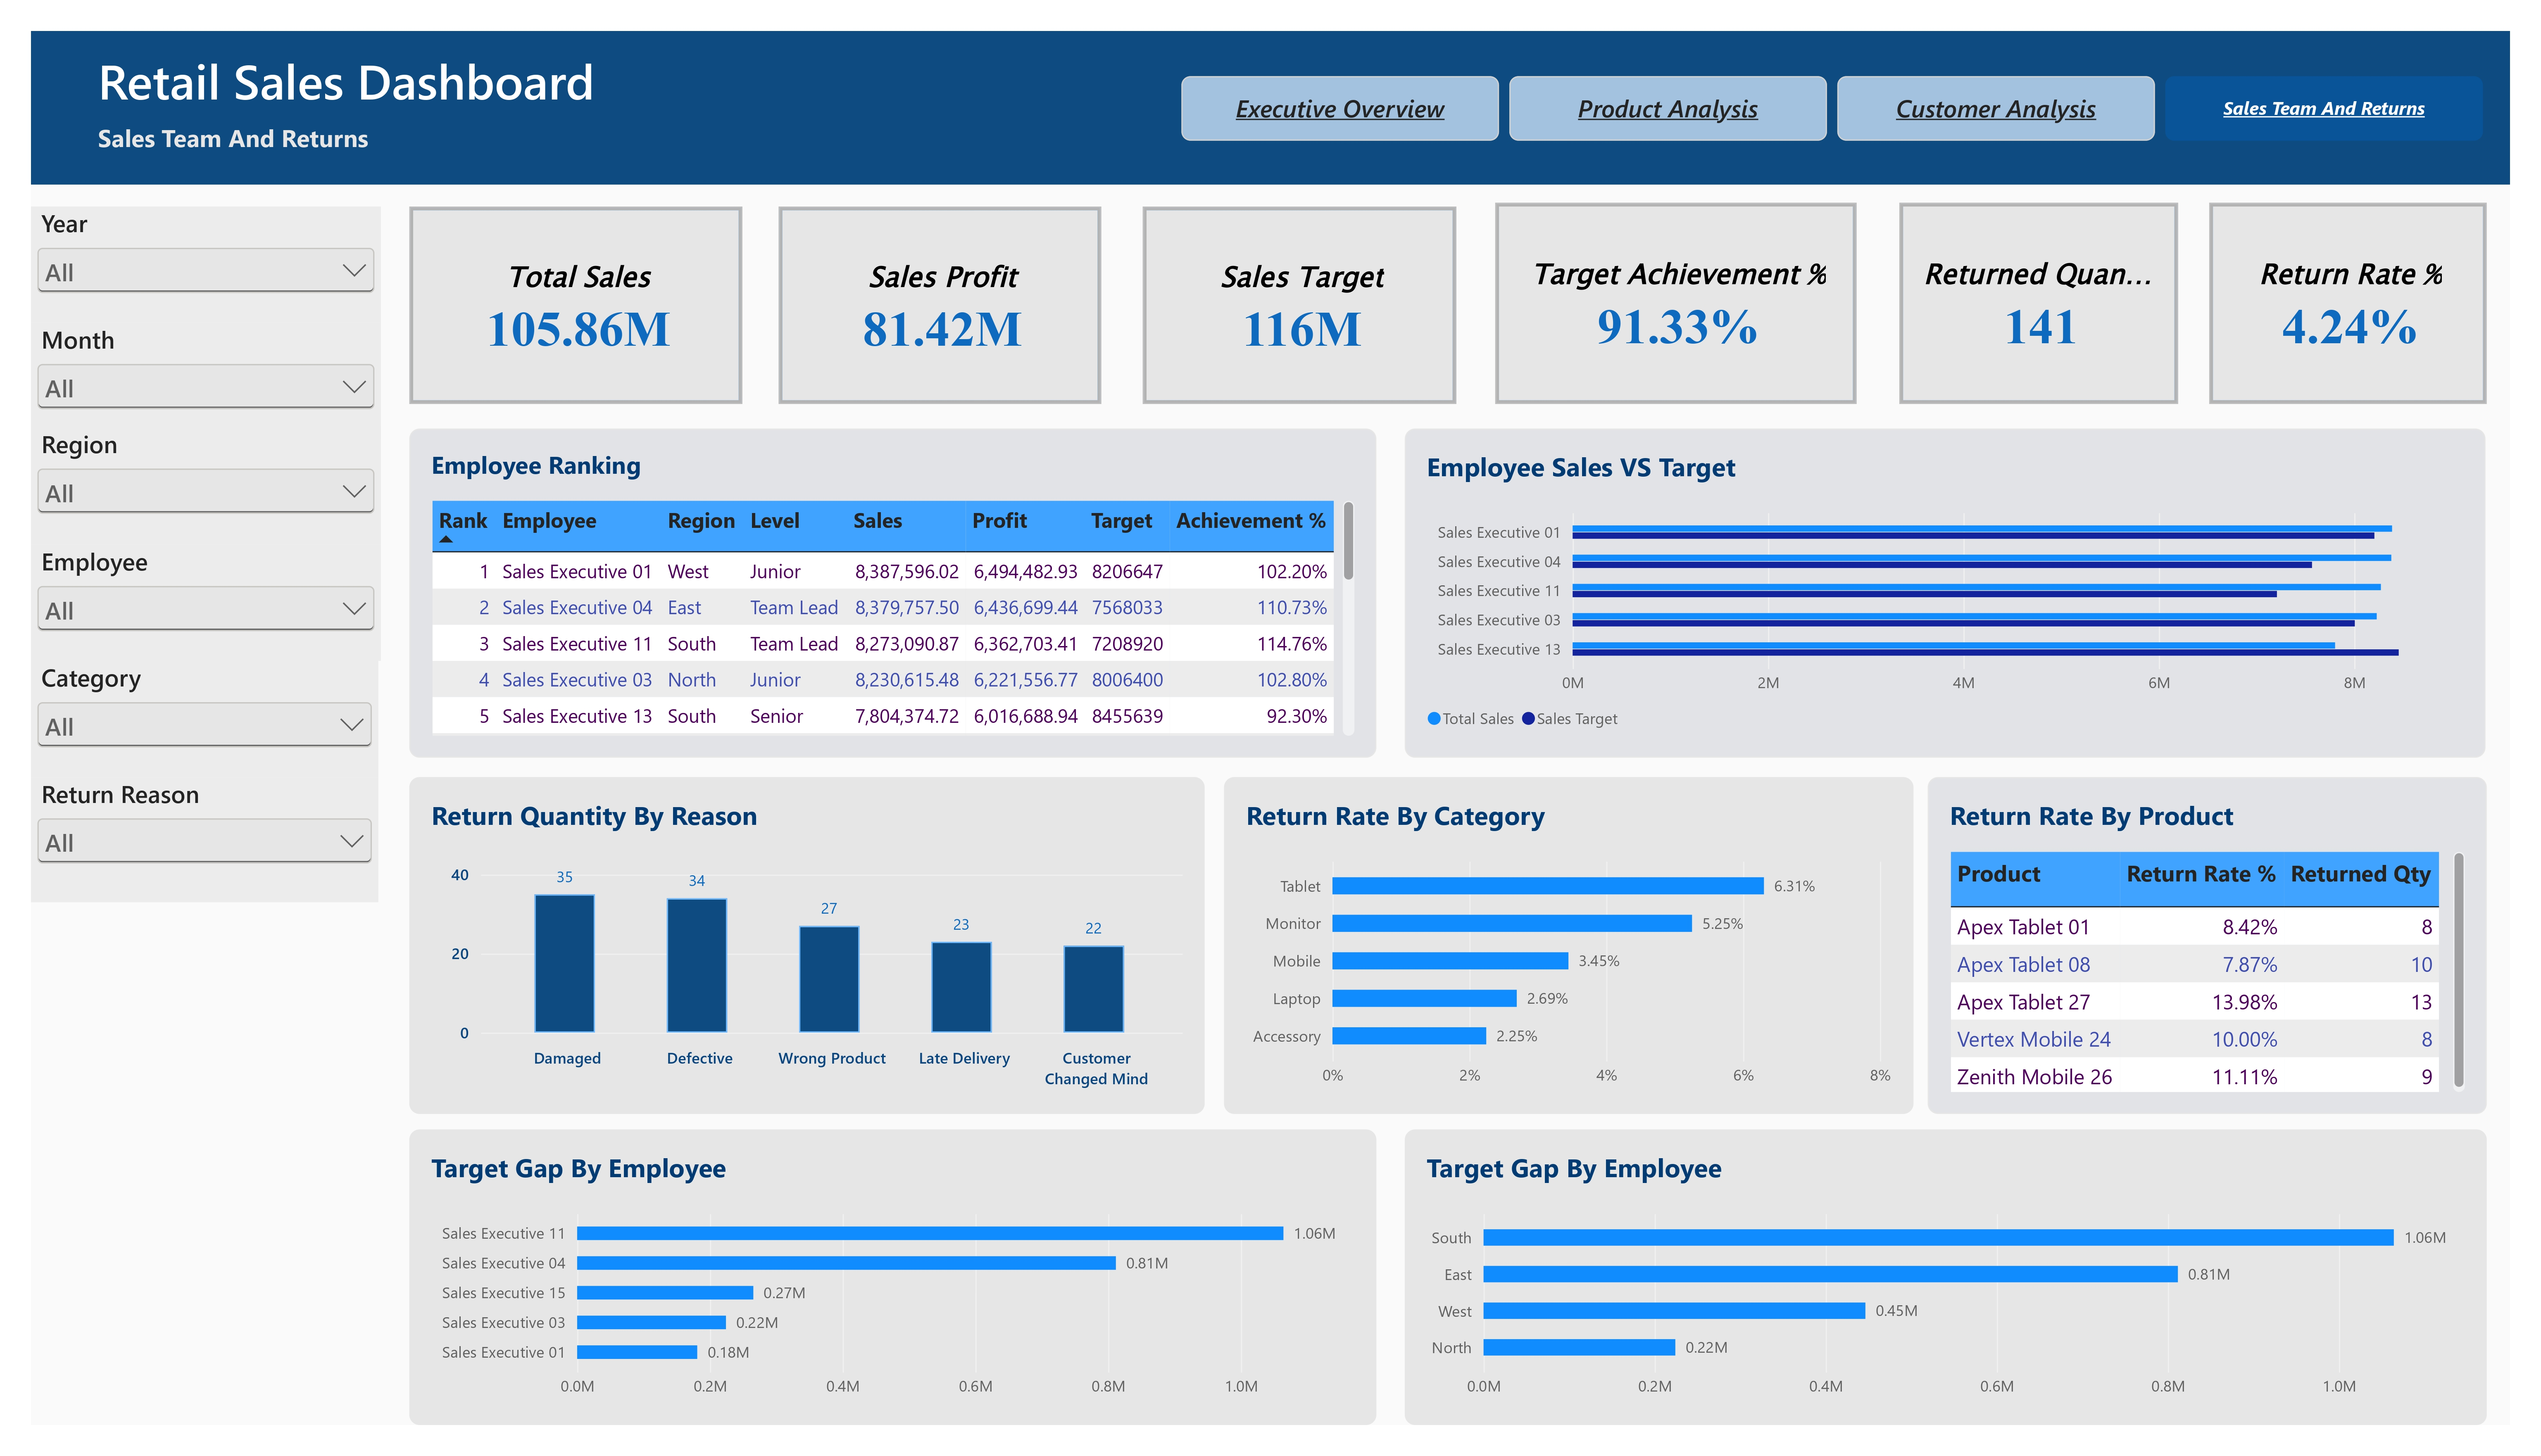

The dashboard page shown, as its layout file describes it:
{"tool":"powerbi","page":{"name":"Sales Team And Returns","canvas":[1920,1080],"ordinal":3},"visuals":[{"type":"shape","title":"Retail Sales Dashboard","box":[0,0,1919.9,119.4],"z":0},{"type":"textbox","box":[10.2,13.1,439.1,56.9],"z":1000},{"type":"textbox","box":[10.2,70,439.1,32.1],"z":2000},{"type":"slicer","fields":{"Values":["Calendar.Year"]},"box":[0,136,270.6,90.2],"z":3000},{"type":"slicer","fields":{"Values":["Calendar.MonthName"]},"box":[0,226.2,270.6,90.2],"z":4000},{"type":"slicer","fields":{"Values":["Employees.EmployeeName"]},"box":[0,397.7,270.6,90.2],"z":5000},{"type":"slicer","fields":{"Values":["Employees.Region"]},"box":[0,307.5,270.6,90.2],"z":6000},{"type":"slicer","fields":{"Values":["Products.Category"]},"box":[0,487.9,269.4,90.2],"z":7000},{"type":"slicer","fields":{"Values":["Returns.ReturnReason"]},"box":[0,578.1,269.4,96.6],"z":8000},{"type":"cardVisual","fields":{"Data":[" Measures .Total Sales"]},"box":[293.3,135.7,258.2,153.2],"z":9000},{"type":"cardVisual","fields":{"Data":[" Measures .Target Achievement %"]},"box":[1133.6,132.8,280.1,156.1],"z":10000},{"type":"cardVisual","fields":{"Data":[" Measures .Total Profit"]},"box":[579.2,135.7,249.5,153.2],"z":11000},{"type":"cardVisual","fields":{"Data":[" Measures .Return Rate %"]},"box":[1686.6,132.8,215.9,156.1],"z":12000},{"type":"clusteredBarChart","title":"Employee Sales VS Target","fields":{"Category":["Employees.EmployeeName"],"Y":[" Measures .Total Sales"," Measures .Sales Target"]},"box":[1063.6,307.8,837.4,255.3],"z":13000},{"type":"columnChart","title":"Return Quantity By Reason","fields":{"Category":["Returns.ReturnReason"],"Y":[" Measures .Returned Quantity"]},"box":[293.3,577.8,615.7,261.2],"z":14000},{"type":"clusteredBarChart","title":"Return Rate By Category","fields":{"Category":["Products.Category"],"Y":[" Measures .Return Rate %"]},"box":[923.5,577.8,534,261.2],"z":15000},{"type":"cardVisual","fields":{"Data":[" Measures .Sales Target"]},"box":[860.8,135.7,243.6,153.2],"z":16000},{"type":"cardVisual","fields":{"Data":[" Measures .Returned Quantity"]},"box":[1447.3,132.8,215.9,156.1],"z":17000},{"type":"tableEx","title":"Employee Ranking","fields":{"Values":[" Measures .Employee Rank","Employees.EmployeeName","Employees.Region","Employees.Level"," Measures .Total Sales"," Measures .Total Profit"," Measures .Sales Target"," Measures .Target Achievement %"]},"box":[293.3,307.8,748.4,255.3],"z":18000},{"type":"tableEx","title":"Return Rate By Product","fields":{"Values":["Products.ProductName"," Measures .Return Rate %"," Measures .Returned Quantity"]},"box":[1469.2,577.8,433.3,261.2],"z":19000},{"type":"clusteredBarChart","title":"Target Gap By Employee","fields":{"Category":["Employees.EmployeeName"],"Y":[" Measures .Target Gap"]},"box":[293.3,850.6,748.4,229.1],"z":20000},{"type":"clusteredBarChart","title":"Target Gap By Employee","fields":{"Category":["Employees.Region"],"Y":[" Measures .Target Gap"]},"box":[1063.6,850.6,838.9,229.1],"z":21000},{"type":"pageNavigator","box":[891.4,35,1009.6,49.6],"z":22000}]}

Visuals, with their boxes on the page's 1920x1080 design canvas (x1, y1, x2, y2). These are canvas units, not pixel positions in the 2541x1456 screenshot, which may show the page scaled, cropped or inside an application window:
"Retail Sales Dashboard" shape: box=[0, 0, 1920, 119]
textbox: box=[10, 13, 449, 70]
textbox: box=[10, 70, 449, 102]
slicer - Calendar.Year: box=[0, 136, 271, 226]
slicer - Calendar.MonthName: box=[0, 226, 271, 316]
slicer - Employees.EmployeeName: box=[0, 398, 271, 488]
slicer - Employees.Region: box=[0, 308, 271, 398]
slicer - Products.Category: box=[0, 488, 269, 578]
slicer - Returns.ReturnReason: box=[0, 578, 269, 675]
cardVisual -  Measures .Total Sales: box=[293, 136, 552, 289]
cardVisual -  Measures .Target Achievement %: box=[1134, 133, 1414, 289]
cardVisual -  Measures .Total Profit: box=[579, 136, 829, 289]
cardVisual -  Measures .Return Rate %: box=[1687, 133, 1902, 289]
"Employee Sales VS Target" clusteredBarChart: box=[1064, 308, 1901, 563]
"Return Quantity By Reason" columnChart: box=[293, 578, 909, 839]
"Return Rate By Category" clusteredBarChart: box=[924, 578, 1458, 839]
cardVisual -  Measures .Sales Target: box=[861, 136, 1104, 289]
cardVisual -  Measures .Returned Quantity: box=[1447, 133, 1663, 289]
"Employee Ranking" tableEx: box=[293, 308, 1042, 563]
"Return Rate By Product" tableEx: box=[1469, 578, 1902, 839]
"Target Gap By Employee" clusteredBarChart: box=[293, 851, 1042, 1080]
"Target Gap By Employee" clusteredBarChart: box=[1064, 851, 1902, 1080]
pageNavigator: box=[891, 35, 1901, 85]
